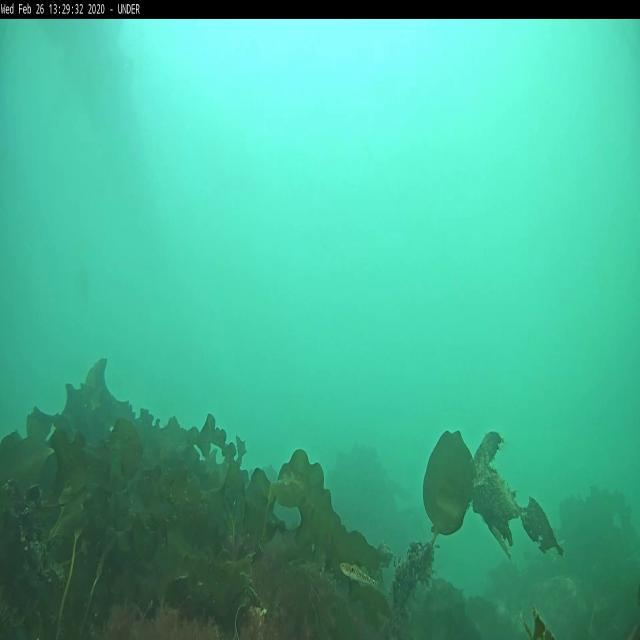fish: (338, 560, 378, 585)
